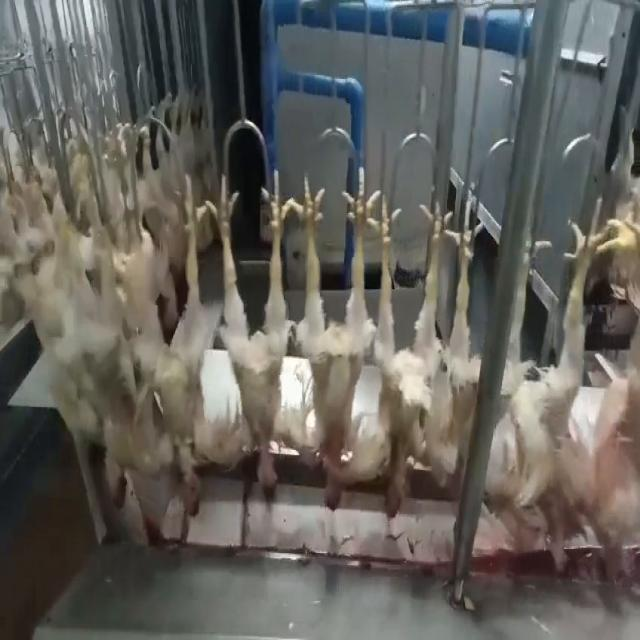chicken: (498, 202, 602, 582), (359, 198, 456, 523), (211, 164, 293, 505), (296, 161, 372, 526), (417, 204, 483, 502), (156, 166, 205, 523), (597, 195, 639, 586)
